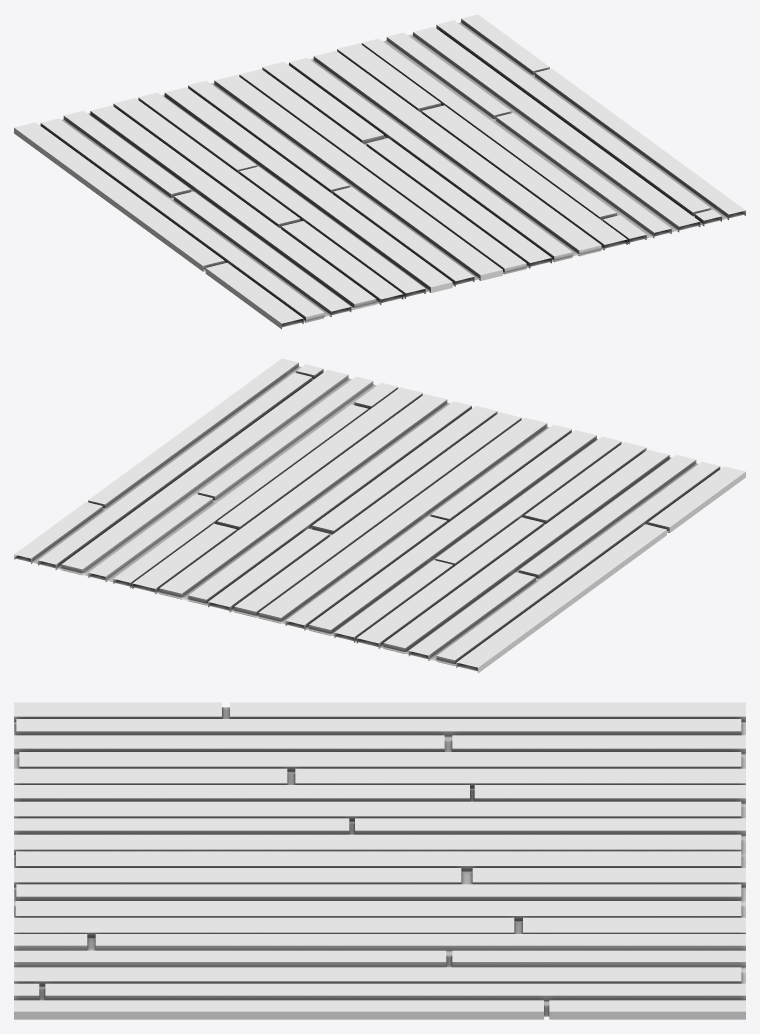
The model's file is underfloor.glb.
The picture shows the model from 3 angles, top to bottom: view 1: azimuth 30°, elevation 25°; view 2: azimuth 150°, elevation 25°; view 3: azimuth 270°, elevation 25°; orthographic projection. The views are drawn at different scales.
Parts seen in each view (by area): view 1: Plane; view 2: Plane; view 3: Plane.
Part boxes in pixels (bbox=[...]): Plane: bbox=[14, 14, 745, 329]; Plane: bbox=[14, 358, 745, 673]; Plane: bbox=[14, 702, 745, 1019].
Size of the model in its own units: 3 by 0.036 by 3.
Materials: 1 (1 with a texture image).
